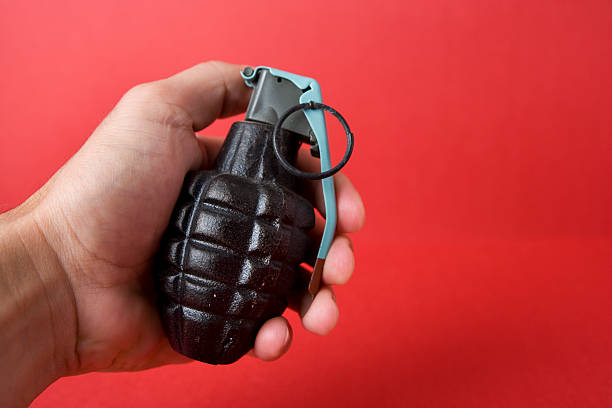e1: (153, 65, 333, 362)
